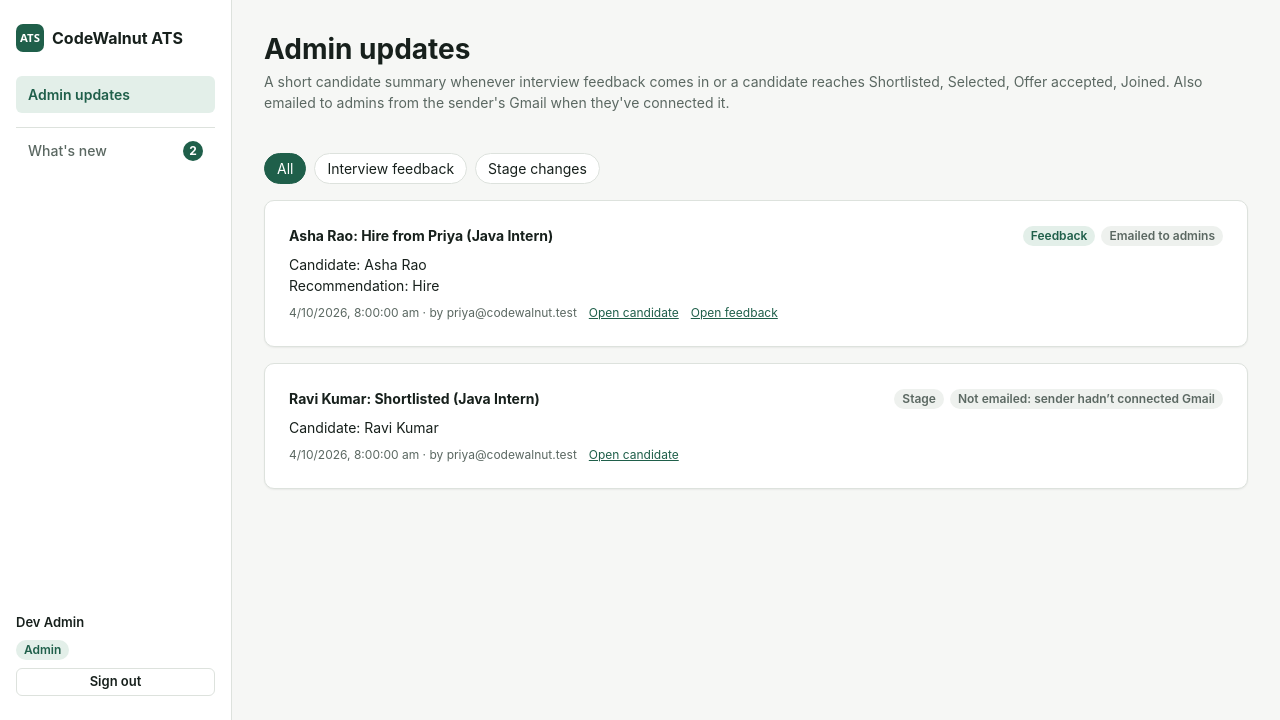
Test case: AdminUpdatesPage (ADM-16) › lists feedback and stage updates with links and email status
Expected: the text "Asha Rao: Hire from Priya (Java Intern)" is shown, [289, 225, 553, 246]
Expected: the text "Shortlisted, Selected, Offer accepted, Joined" is shown, [264, 73, 1202, 111]
What coordinates should you click on to do the following:
click the button "Stage changes"
I would click on:
 (537, 168)
Its box is [475, 153, 600, 184].
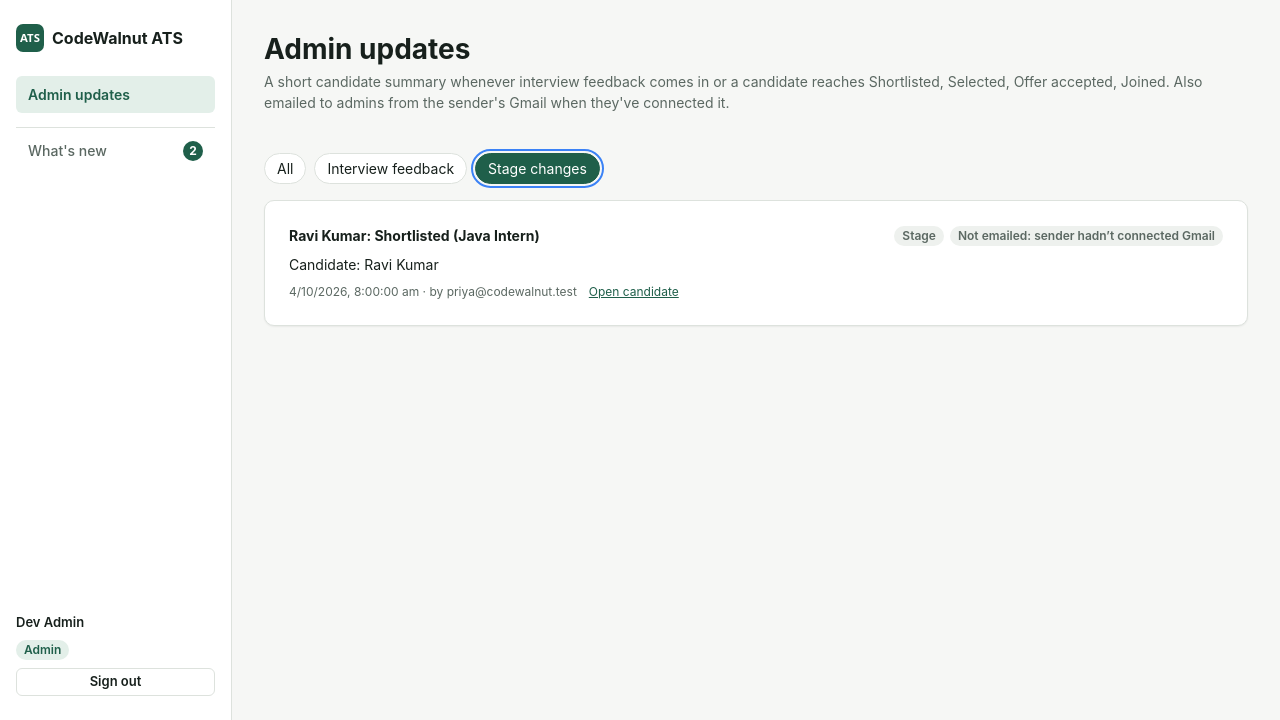
Expected: the text "Ravi Kumar: Shortlisted (Java Intern)" is shown, [289, 225, 540, 246]
Expected: the text "Asha Rao: Hire from Priya (Java Intern)" is gone
